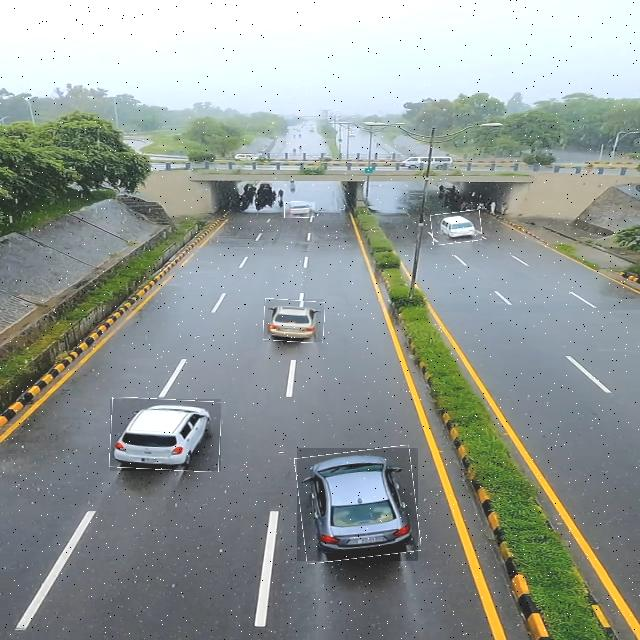Car: (297, 448, 418, 561), (110, 399, 221, 471), (264, 299, 324, 342), (431, 211, 482, 244), (284, 202, 315, 218)
